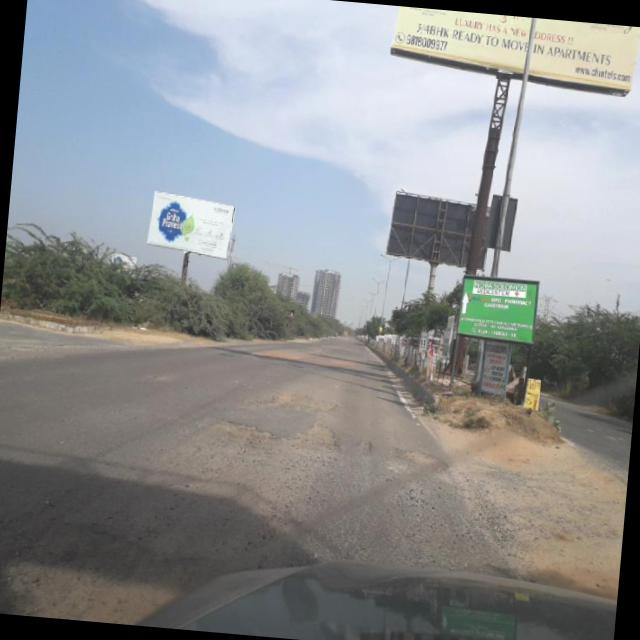pothole: (0, 480, 221, 628), (208, 403, 282, 458), (253, 382, 345, 414), (288, 416, 351, 462), (256, 334, 319, 368), (392, 440, 456, 472), (352, 434, 378, 461)
